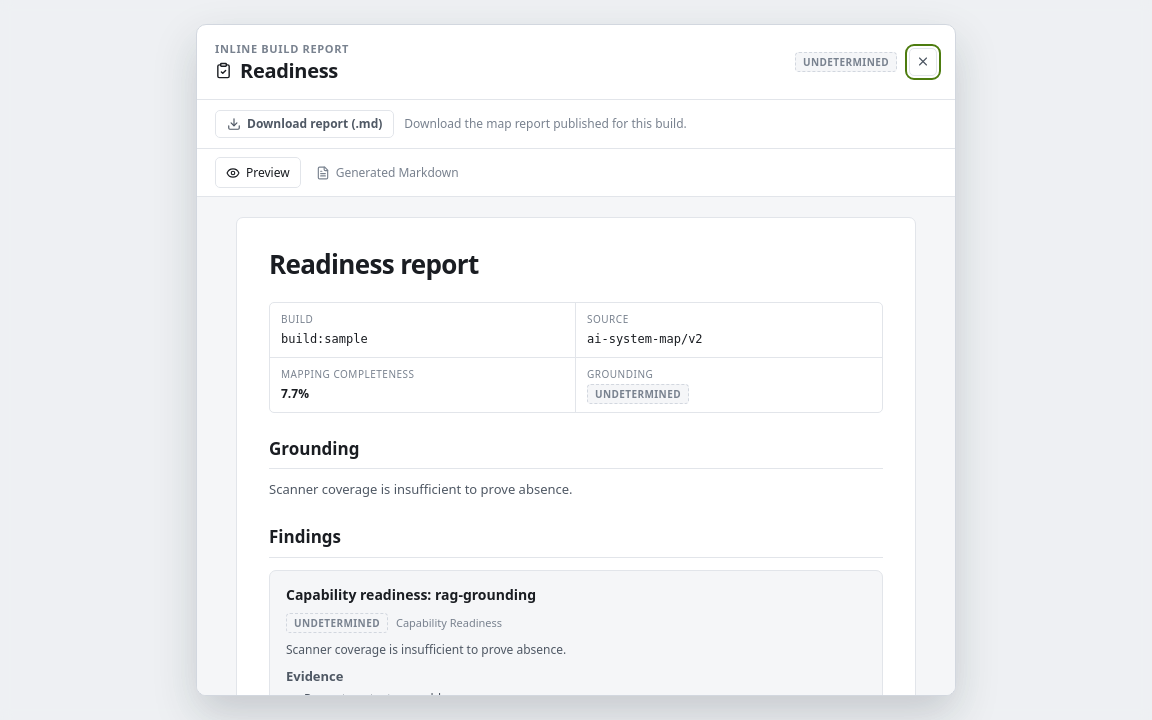
it: ReadinessPanel build report download › downloads the build the viewer is following
Click the button "Download report (.md)" at (305, 124), box left=215, top=110, right=394, bottom=138
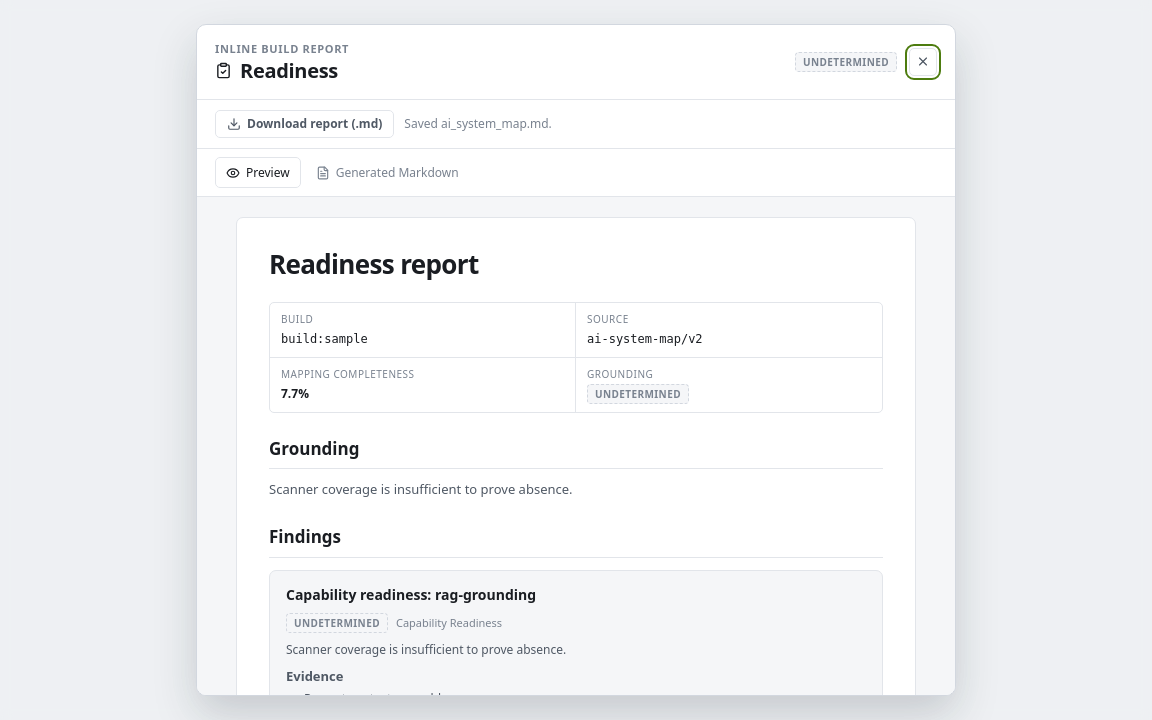
Now the text "Saved ai_system_map.md." is shown, box left=404, top=116, right=552, bottom=132
